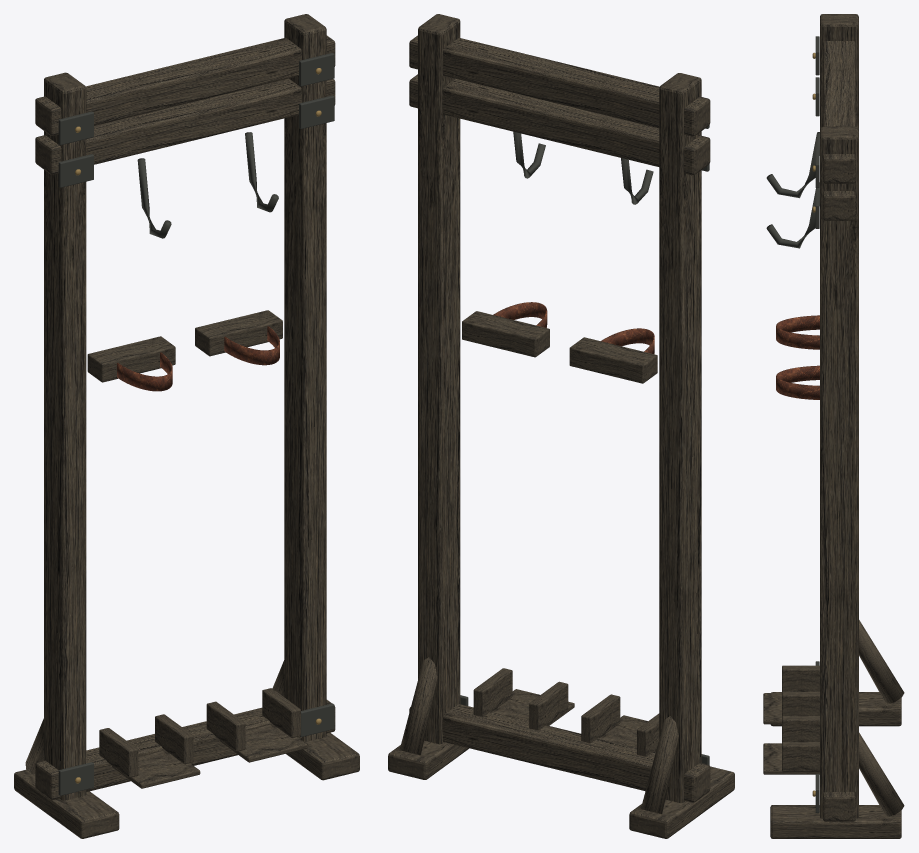
File: WM-02-reserve-rack.glb
3 views of the same model, side by side, from view 1: azimuth 30°, elevation 25°; view 2: azimuth 150°, elevation 25°; view 3: azimuth 270°, elevation 25° (orthographic). The views are drawn at different scales.
Visible parts, largest first — view 1: WM02_Upright.002, WM02_Upright.003, WM02_Crossbar.005, WM02_Crossbar.004, WM02_Crossbar.003, WM02_Foot.002, WM02_Retention_backing_2.001, WM02_Retention_backing_1.001, WM02_Foot.003, WM02_Toe_support_2.001, WM02_Toe_support_1.001, WM02_Toe_separator.006 (+13 smaller); view 2: WM02_Upright.002, WM02_Upright.003, WM02_Crossbar.005, WM02_Crossbar.004, WM02_Crossbar.003, WM02_Foot.002, WM02_Retention_backing_1.001, WM02_Retention_backing_2.001, WM02_Rear_brace.002, WM02_Rear_brace.003, WM02_Foot.003, WM02_Toe_separator.006 (+7 smaller); view 3: WM02_Upright.003, WM02_Crossbar.005, WM02_Foot.003, WM02_Upright.002, WM02_Rear_brace.003, WM02_Rear_brace.002, WM02_Foot.002, WM02_Reserve_loop_1.001, WM02_Reserve_loop_2.001, WM02_Toe_separator.007, WM02_Toe_separator.004, WM02_Toe_separator.006 (+7 smaller).
Boxes of the visible parts, x1=… form: WM02_Upright.002: x1=44, y1=72, x2=86, y2=800; WM02_Upright.003: x1=284, y1=14, x2=326, y2=741; WM02_Crossbar.005: x1=35, y1=35, x2=335, y2=135; WM02_Crossbar.004: x1=35, y1=78, x2=335, y2=174; WM02_Crossbar.003: x1=35, y1=700, x2=335, y2=800; WM02_Foot.002: x1=14, y1=769, x2=119, y2=838; WM02_Retention_backing_2.001: x1=195, y1=310, x2=282, y2=356; WM02_Retention_backing_1.001: x1=87, y1=336, x2=175, y2=382; WM02_Foot.003: x1=286, y1=732, x2=359, y2=780; WM02_Toe_support_2.001: x1=219, y1=724, x2=307, y2=762; WM02_Toe_support_1.001: x1=112, y1=750, x2=200, y2=788; WM02_Toe_separator.006: x1=206, y1=701, x2=245, y2=751; WM02_Upright.002: x1=659, y1=73, x2=701, y2=802; WM02_Upright.003: x1=418, y1=14, x2=460, y2=744; WM02_Crossbar.005: x1=409, y1=35, x2=710, y2=136; WM02_Crossbar.004: x1=409, y1=74, x2=710, y2=175; WM02_Crossbar.003: x1=409, y1=704, x2=710, y2=802; WM02_Foot.002: x1=629, y1=766, x2=734, y2=838; WM02_Retention_backing_1.001: x1=569, y1=337, x2=657, y2=383; WM02_Retention_backing_2.001: x1=462, y1=311, x2=549, y2=357; WM02_Rear_brace.002: x1=641, y1=716, x2=678, y2=813; WM02_Rear_brace.003: x1=399, y1=657, x2=437, y2=755; WM02_Foot.003: x1=388, y1=740, x2=468, y2=779; WM02_Toe_separator.006: x1=529, y1=681, x2=568, y2=730; WM02_Upright.003: x1=820, y1=126, x2=858, y2=818; WM02_Crossbar.005: x1=823, y1=41, x2=855, y2=183; WM02_Foot.003: x1=770, y1=805, x2=901, y2=838; WM02_Upright.002: x1=820, y1=14, x2=858, y2=128; WM02_Rear_brace.003: x1=859, y1=732, x2=904, y2=816; WM02_Rear_brace.002: x1=859, y1=620, x2=904, y2=703; WM02_Foot.002: x1=770, y1=692, x2=901, y2=726; WM02_Reserve_loop_1.001: x1=776, y1=315, x2=819, y2=349; WM02_Reserve_loop_2.001: x1=776, y1=365, x2=819, y2=399; WM02_Toe_separator.007: x1=782, y1=742, x2=819, y2=771; WM02_Toe_separator.004: x1=782, y1=665, x2=819, y2=691; WM02_Toe_separator.006: x1=782, y1=716, x2=819, y2=742.
Size of the model in its own units: 0.77 by 1.88 by 0.3438.
4 materials, 2 textured.
